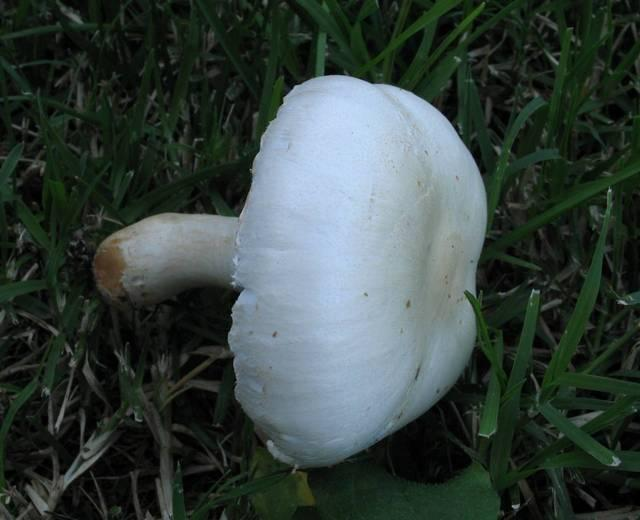Non-edible Mushroom: (90, 72, 489, 470)
